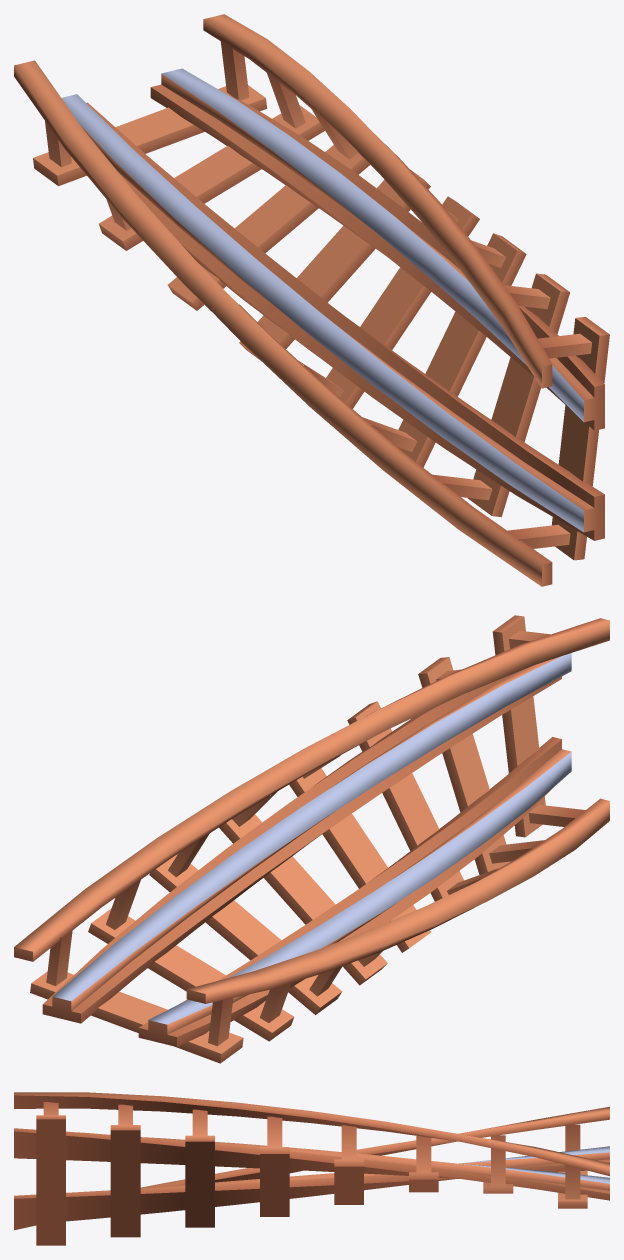
File: kenney-coaster-coaster-wood-straight-skew-right-side.glb
3 renders of one model, top to bottom at view 1: azimuth 30°, elevation 25°; view 2: azimuth 150°, elevation 25°; view 3: azimuth 270°, elevation 25°, orthographic. The views are drawn at different scales.
Visible parts, largest first — view 1: coaster-wood-straight-skew-right-side; view 2: coaster-wood-straight-skew-right-side; view 3: coaster-wood-straight-skew-right-side.
Part boxes in pixels (x1=…): coaster-wood-straight-skew-right-side: x1=14, y1=14, x2=609, y2=586; coaster-wood-straight-skew-right-side: x1=14, y1=615, x2=609, y2=1063; coaster-wood-straight-skew-right-side: x1=14, y1=1092, x2=609, y2=1245.
Size of the model in its own units: 1.08 by 1.08 by 4.
Materials: 1 (1 with a texture image).
